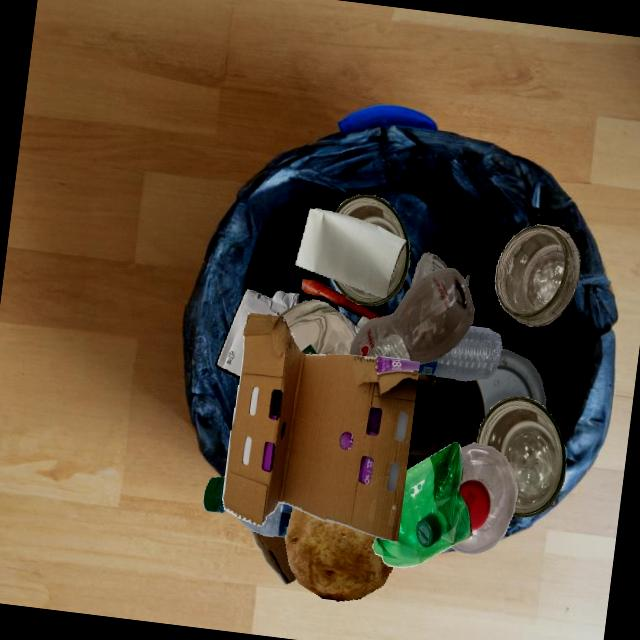biowaste: (284, 507, 393, 600), (301, 279, 382, 319)
cardboard: (222, 312, 420, 542), (251, 530, 296, 584)
glass: (475, 397, 566, 517), (494, 224, 580, 326), (332, 194, 409, 306), (407, 373, 484, 469), (278, 299, 355, 354), (409, 252, 447, 289)
paper: (295, 208, 406, 297), (215, 288, 298, 378)
plastic: (372, 441, 471, 567), (349, 267, 474, 364), (450, 442, 517, 554), (476, 349, 546, 417), (419, 326, 502, 380), (234, 503, 293, 537), (365, 334, 409, 360), (203, 476, 227, 512)
